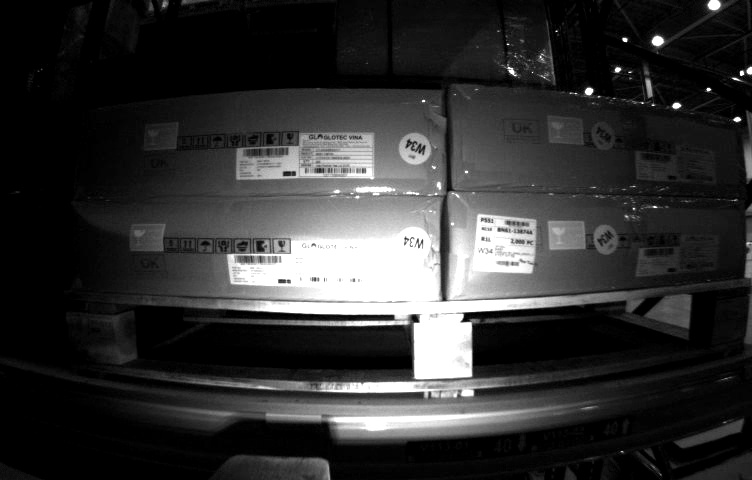True Barcode: (477, 212, 539, 276)
